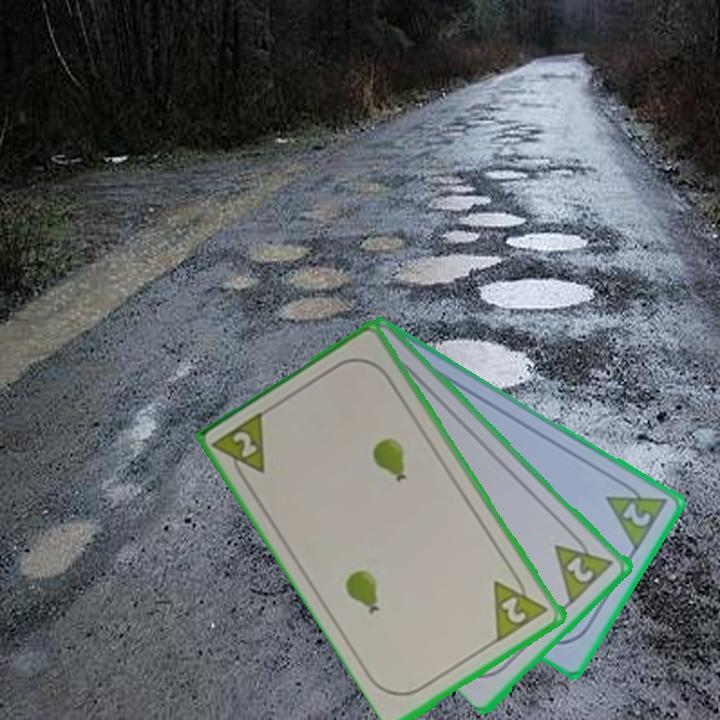2p: (603, 475, 671, 553), (490, 566, 552, 644), (211, 407, 269, 489), (563, 553, 598, 586)
